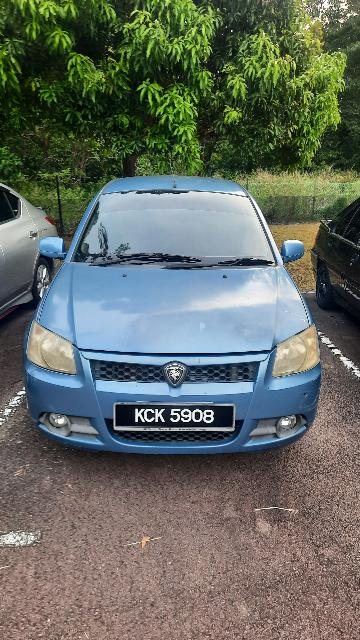License_Plate: (109, 398, 241, 441)
car: (16, 170, 329, 467)
